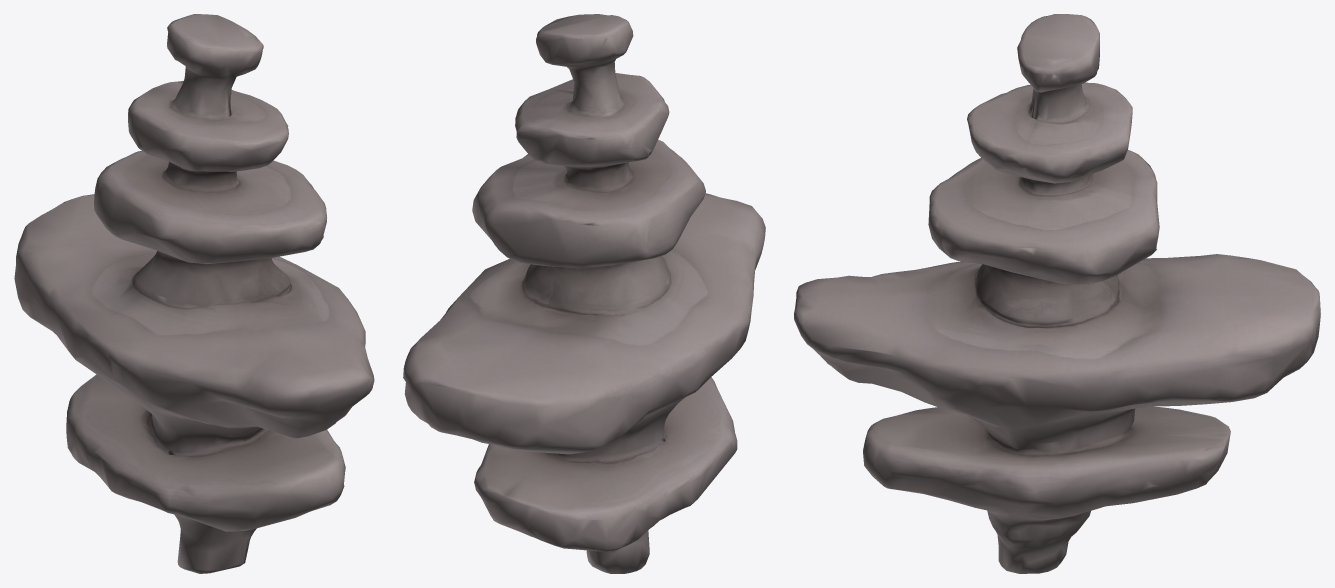
The model's file is rock_stack.glb.
3 views of the same model, side by side, from view 1: azimuth 30°, elevation 25°; view 2: azimuth 150°, elevation 25°; view 3: azimuth 270°, elevation 25° (orthographic). The views are drawn at different scales.
Visible parts, largest first — view 1: tripo_node_abff1c12-f2fc-4784-b50a-5f64f3254961; view 2: tripo_node_abff1c12-f2fc-4784-b50a-5f64f3254961; view 3: tripo_node_abff1c12-f2fc-4784-b50a-5f64f3254961.
Part boxes in pixels (box(x1,y1,x2,y2)): tripo_node_abff1c12-f2fc-4784-b50a-5f64f3254961: box(14, 14, 374, 573); tripo_node_abff1c12-f2fc-4784-b50a-5f64f3254961: box(403, 14, 765, 573); tripo_node_abff1c12-f2fc-4784-b50a-5f64f3254961: box(794, 14, 1320, 573).
Size of the model in its own units: 5.04 by 10.51 by 9.28.
1 material, 1 textured.
